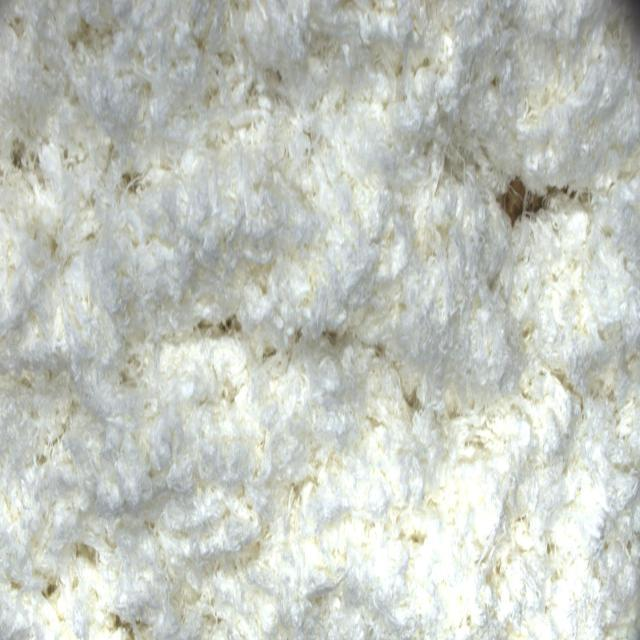dust: (501, 175, 557, 229)
